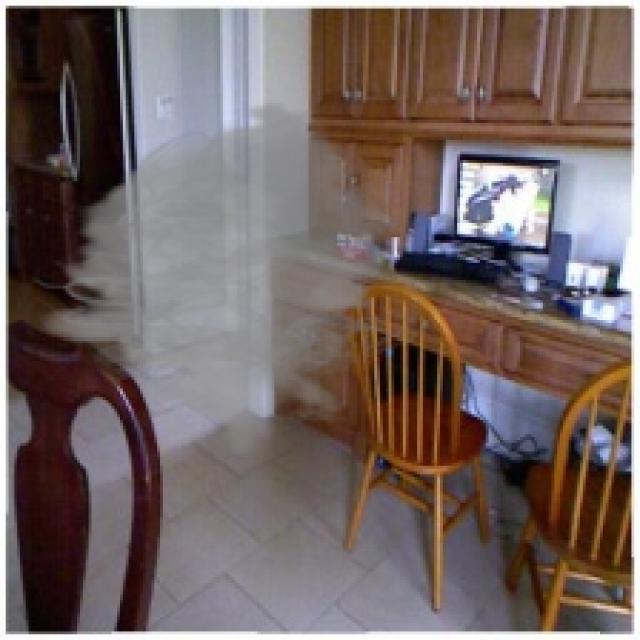smoke: (26, 100, 437, 460)
